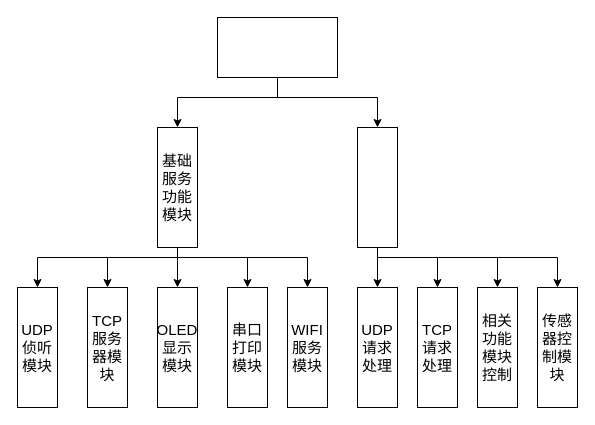
Some shapes in this 595 by 425 pixel diagram are drawn without their labels. Each missing label, with the centre of its shape:
被控端功能模块: the point at 377,187
被控端系统程序: the point at 277,47
